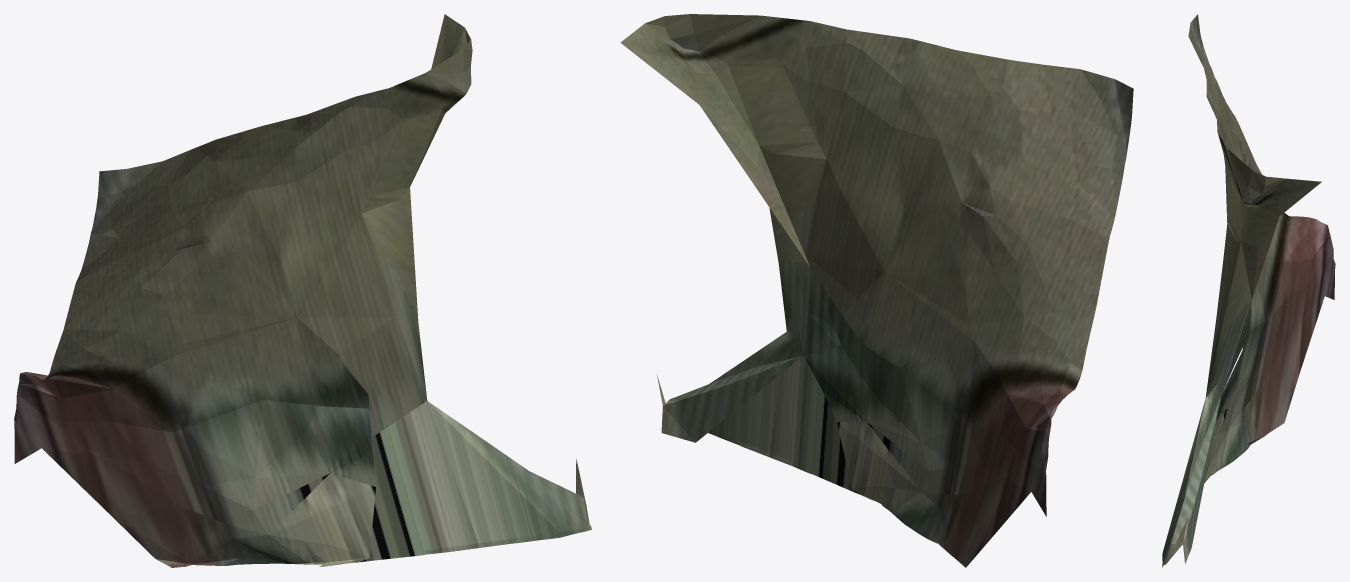
The model's file is tile_2_15.obj.
The picture shows the model from 3 angles, left to right: view 1: azimuth 30°, elevation 25°; view 2: azimuth 150°, elevation 25°; view 3: azimuth 270°, elevation 25°; orthographic projection. The views are drawn at different scales.
Parts seen in each view (by area): view 1: texture_0; view 2: texture_0; view 3: texture_0.
Boxes of the visible parts, bbox=[...] form: texture_0: bbox=[14, 14, 591, 567]; texture_0: bbox=[620, 14, 1133, 567]; texture_0: bbox=[1162, 14, 1335, 567].
Bounding box in the file's own units: 13.88 × 12.92 × 5.5.
Materials: 1 (1 with a texture image).
